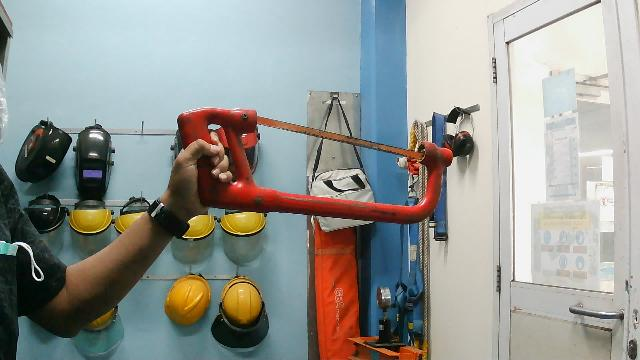gergaji_besi: (175, 104, 457, 229)
